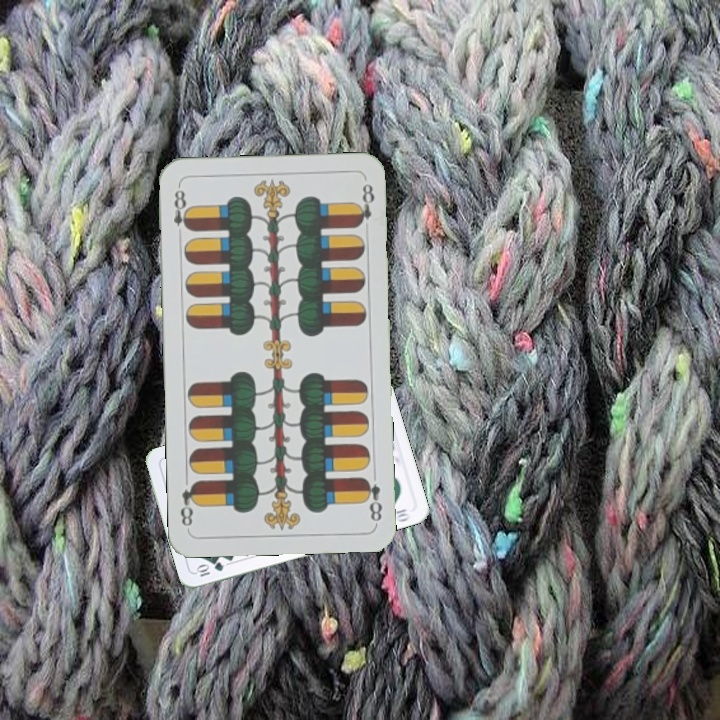E8: (359, 473, 385, 524), (169, 182, 193, 233)
G10: (192, 558, 226, 579)
